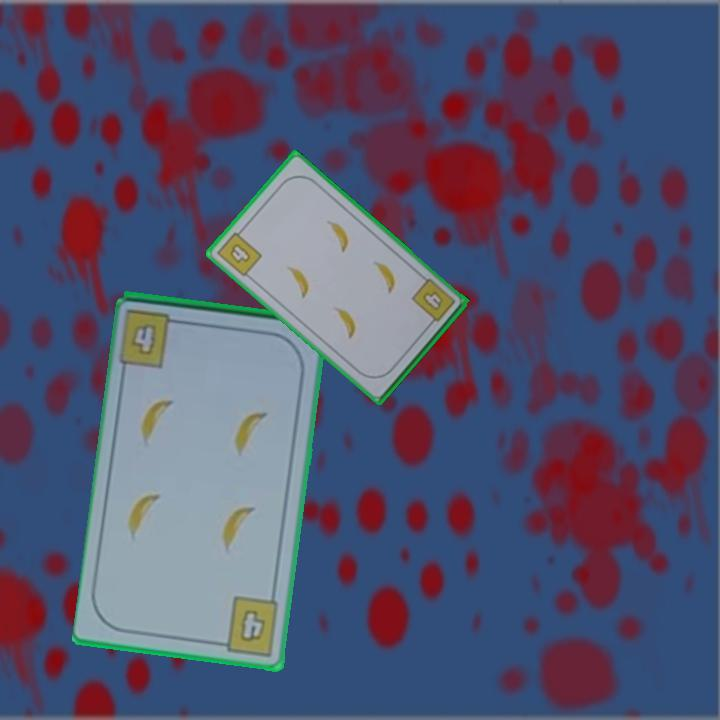4b: (213, 593, 282, 659), (213, 224, 265, 280), (408, 275, 458, 329), (131, 323, 157, 356)
